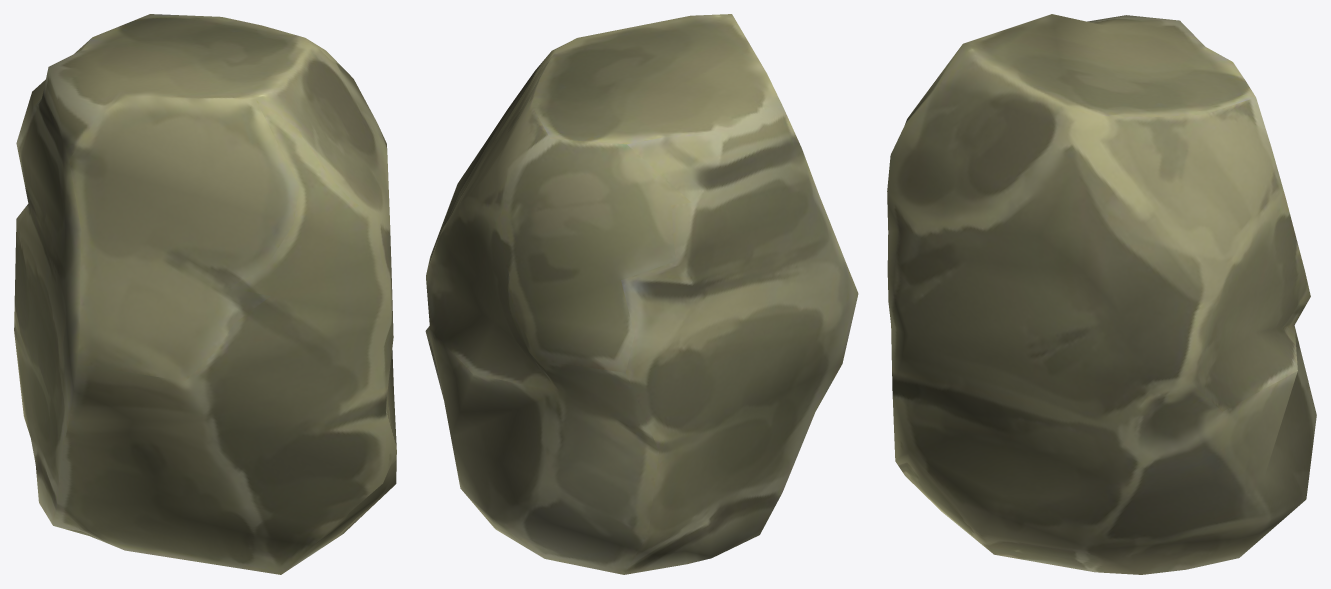
Rendered from stoneA.FBX.
3 views of the same model, side by side, from view 1: azimuth 30°, elevation 25°; view 2: azimuth 150°, elevation 25°; view 3: azimuth 270°, elevation 25° (orthographic). The views are drawn at different scales.
Visible parts, largest first — view 1: stoneA; view 2: stoneA; view 3: stoneA.
Boxes of the visible parts, left/top/right/bottom form: stoneA: left=14, top=14, right=396, bottom=574; stoneA: left=425, top=14, right=858, bottom=574; stoneA: left=887, top=14, right=1316, bottom=574.
Bounding box in the file's own units: 155 × 183 × 154.
